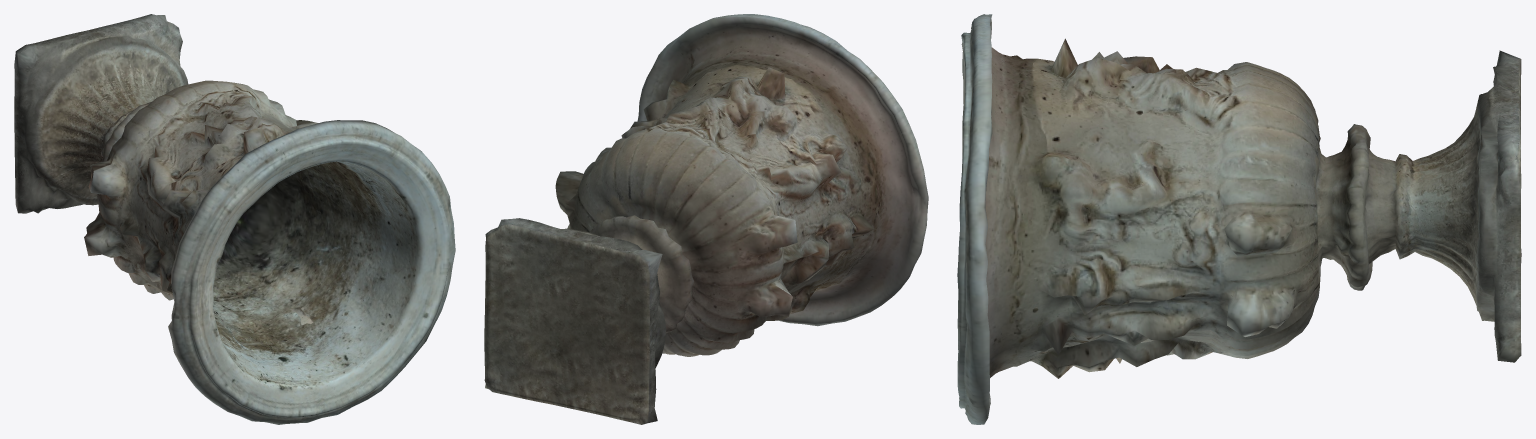
File: vase.dae
3 renders of one model, left to right at view 1: azimuth 30°, elevation 25°; view 2: azimuth 150°, elevation 25°; view 3: azimuth 270°, elevation 25°, orthographic. The views are drawn at different scales.
Visible parts, largest first — view 1: concrete_vase; view 2: concrete_vase; view 3: concrete_vase.
Part boxes in pixels (box(x1,y1,x2,y2)): concrete_vase: box(14, 14, 455, 424); concrete_vase: box(484, 14, 928, 424); concrete_vase: box(957, 14, 1521, 424).
Bounding box in the file's own units: 0.5139 × 0.5072 × 0.7034.
1 material, 1 textured.
